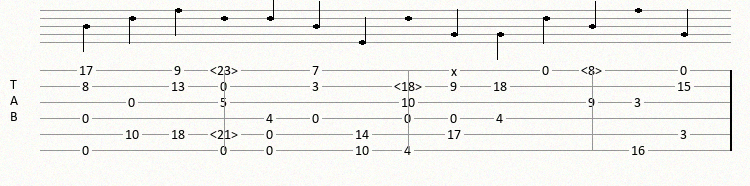0: (82, 144, 93, 157), (82, 112, 93, 125), (128, 96, 139, 109), (220, 80, 231, 93), (220, 144, 231, 157), (266, 144, 277, 157), (266, 128, 277, 141), (312, 112, 323, 125), (404, 112, 415, 125), (450, 112, 461, 125), (542, 64, 553, 77), (680, 64, 691, 77)
10: (125, 128, 143, 141), (355, 144, 373, 157), (401, 96, 419, 109)
13: (171, 80, 189, 93)
14: (355, 128, 373, 141)
15: (677, 80, 695, 93)
16: (631, 144, 649, 157)
17: (79, 64, 97, 77), (447, 128, 465, 141)
18: (171, 128, 189, 141), (493, 80, 511, 93)
3: (312, 80, 323, 93), (634, 96, 645, 109), (680, 128, 691, 141)
4: (266, 112, 277, 125), (404, 144, 415, 157), (496, 112, 507, 125)
5: (220, 96, 231, 109)
7: (312, 64, 323, 77)
8: (82, 80, 93, 93)
9: (174, 64, 185, 77), (450, 80, 461, 93), (588, 96, 599, 109)
harmonic: (210, 128, 242, 141), (210, 64, 242, 77), (394, 80, 426, 93), (581, 64, 606, 77)
x: (451, 65, 461, 76)
